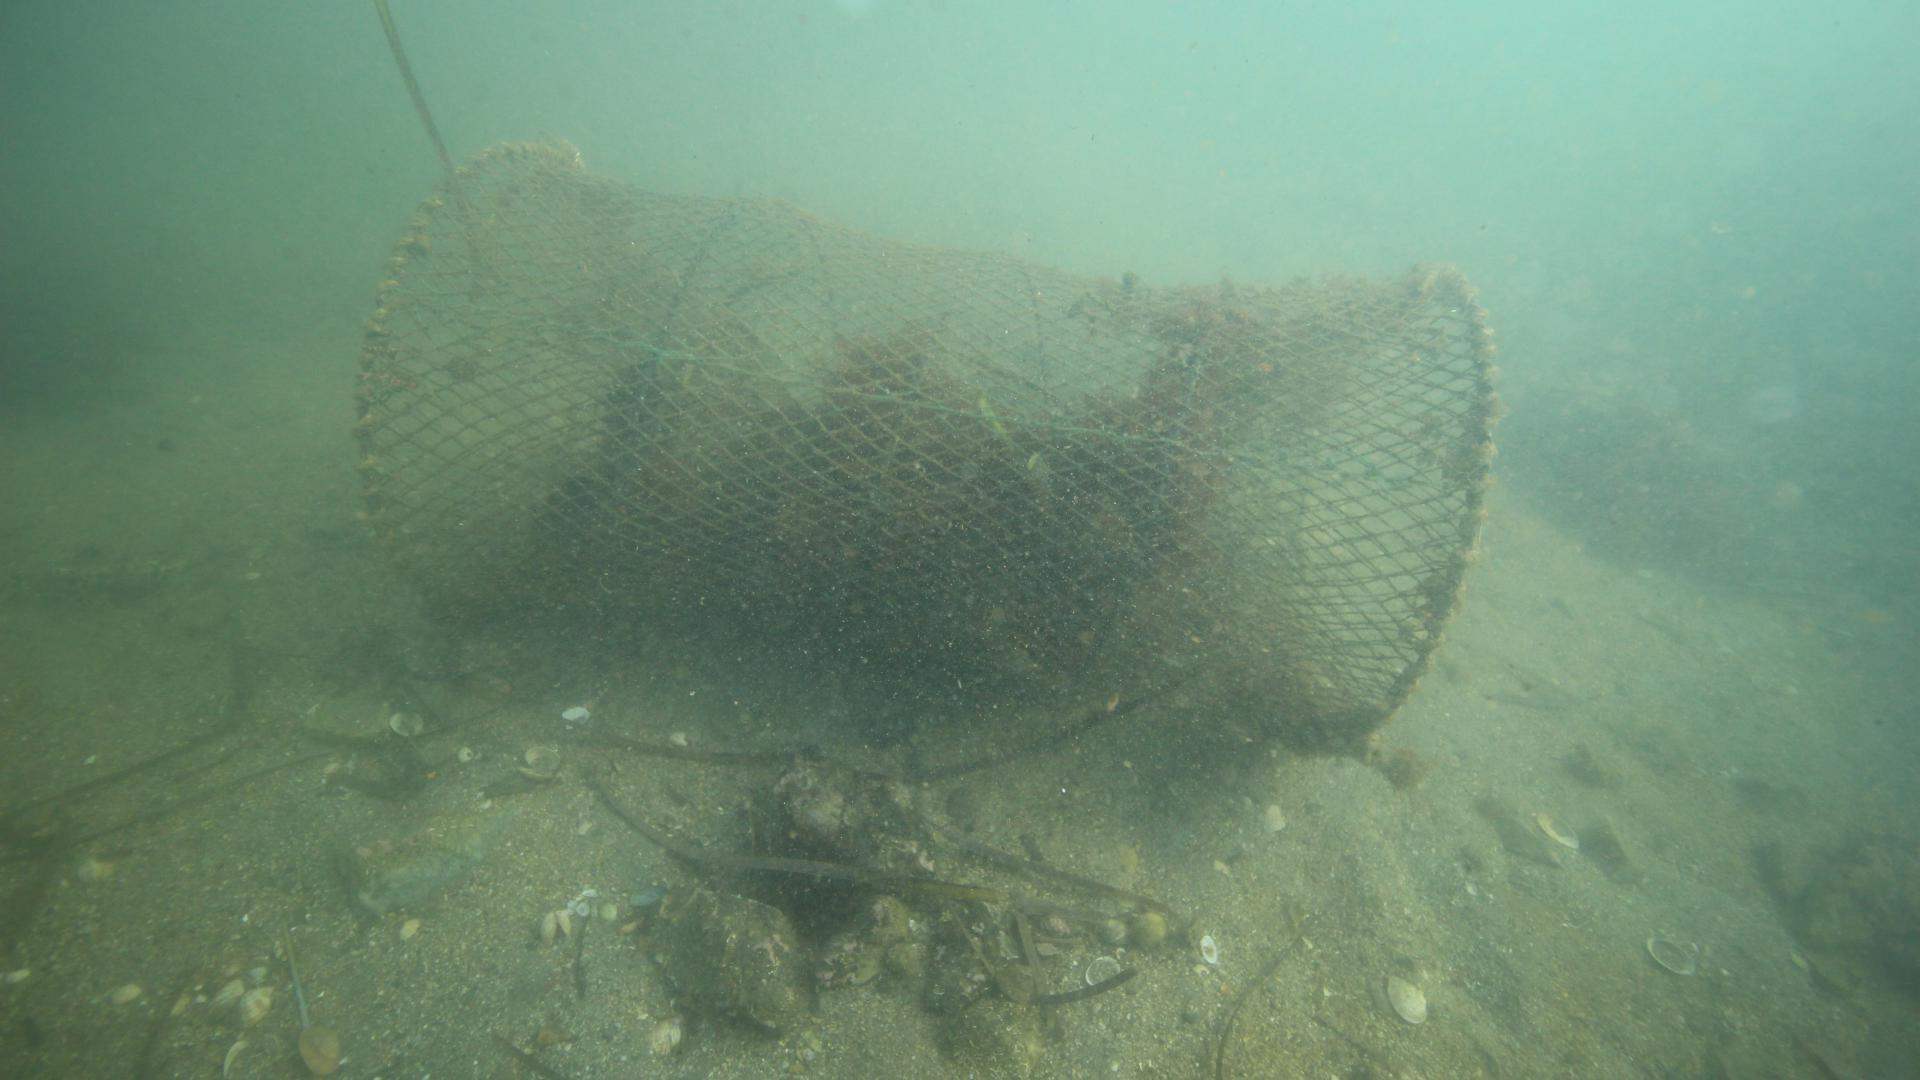spring fish trap: (349, 138, 1505, 750)
